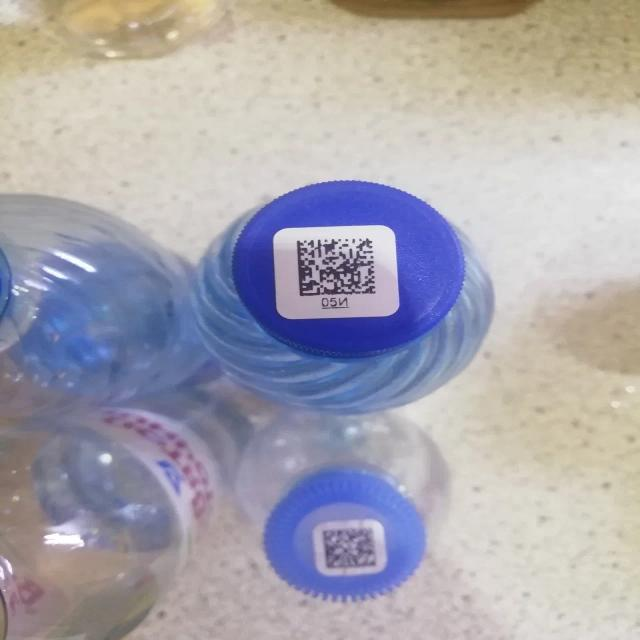datamatrix: (292, 236, 381, 299), (321, 525, 381, 572)
